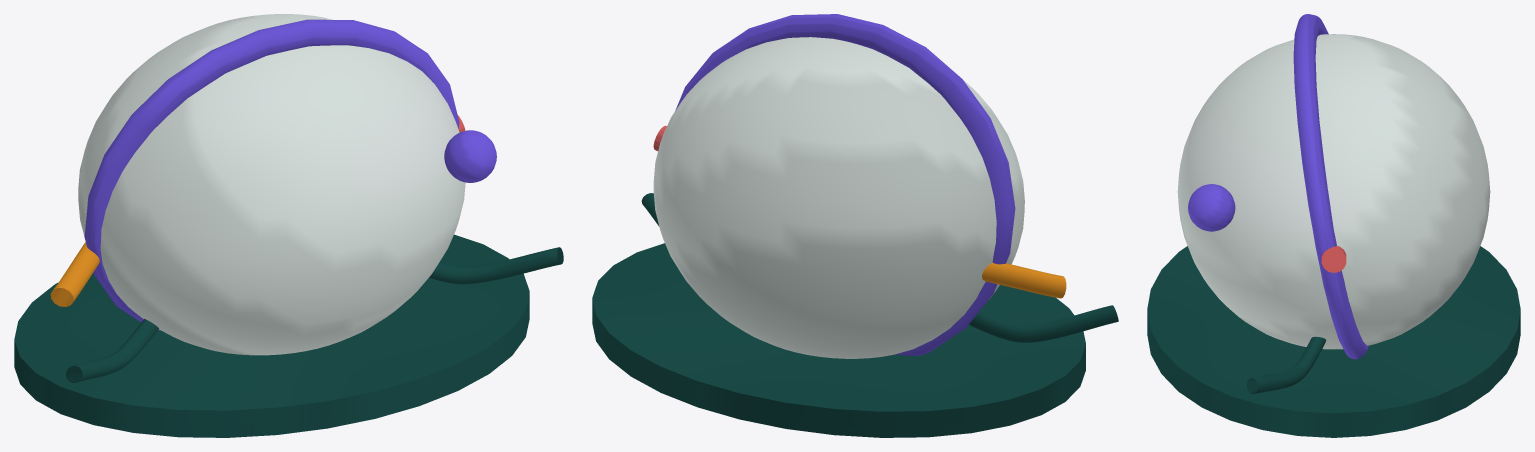
File: 1228_细胞图鉴_细胞膜.glb
3 renders of one model, left to right at view 1: azimuth 30°, elevation 25°; view 2: azimuth 150°, elevation 25°; view 3: azimuth 270°, elevation 25°, orthographic. The views are drawn at different scales.
Parts seen in each view (by area): view 1: card_1228; view 2: card_1228; view 3: card_1228.
Boxes of the visible parts, <box> form: card_1228: <box>14,14,563,437</box>; card_1228: <box>592,14,1118,437</box>; card_1228: <box>1147,14,1520,437</box>.
Size of the model in its own units: 1.56 by 1 by 1.12.
